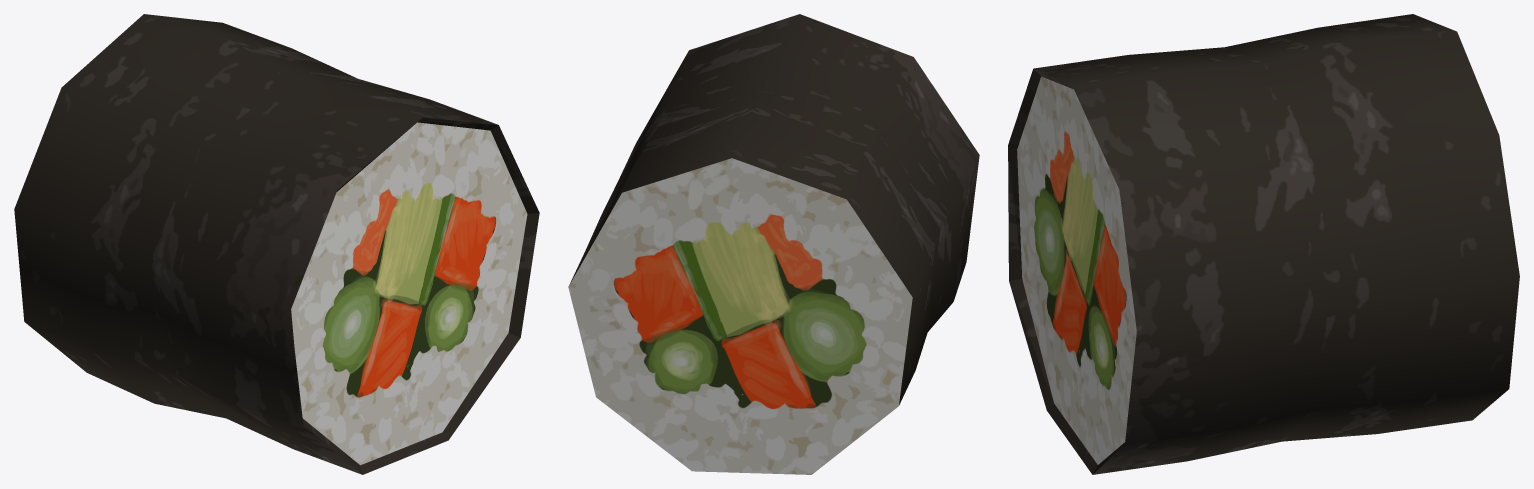
The model's file is sushi4.fbx.
3 views of the same model, side by side, from view 1: azimuth 30°, elevation 25°; view 2: azimuth 150°, elevation 25°; view 3: azimuth 270°, elevation 25° (orthographic). The views are drawn at different scales.
Visible parts, largest first — view 1: súhi4; view 2: súhi4; view 3: súhi4.
Boxes of the visible parts, <box> form: súhi4: <box>14,14,539,474</box>; súhi4: <box>568,14,979,474</box>; súhi4: <box>1008,14,1519,474</box>.
Bounding box in the file's own units: 96.35 × 77.15 × 95.14.
